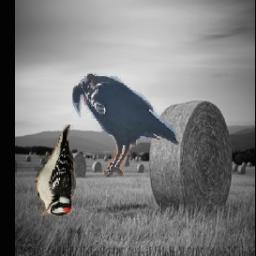Crow: (72, 71, 181, 179)
Woodpecker: (35, 126, 76, 217)
